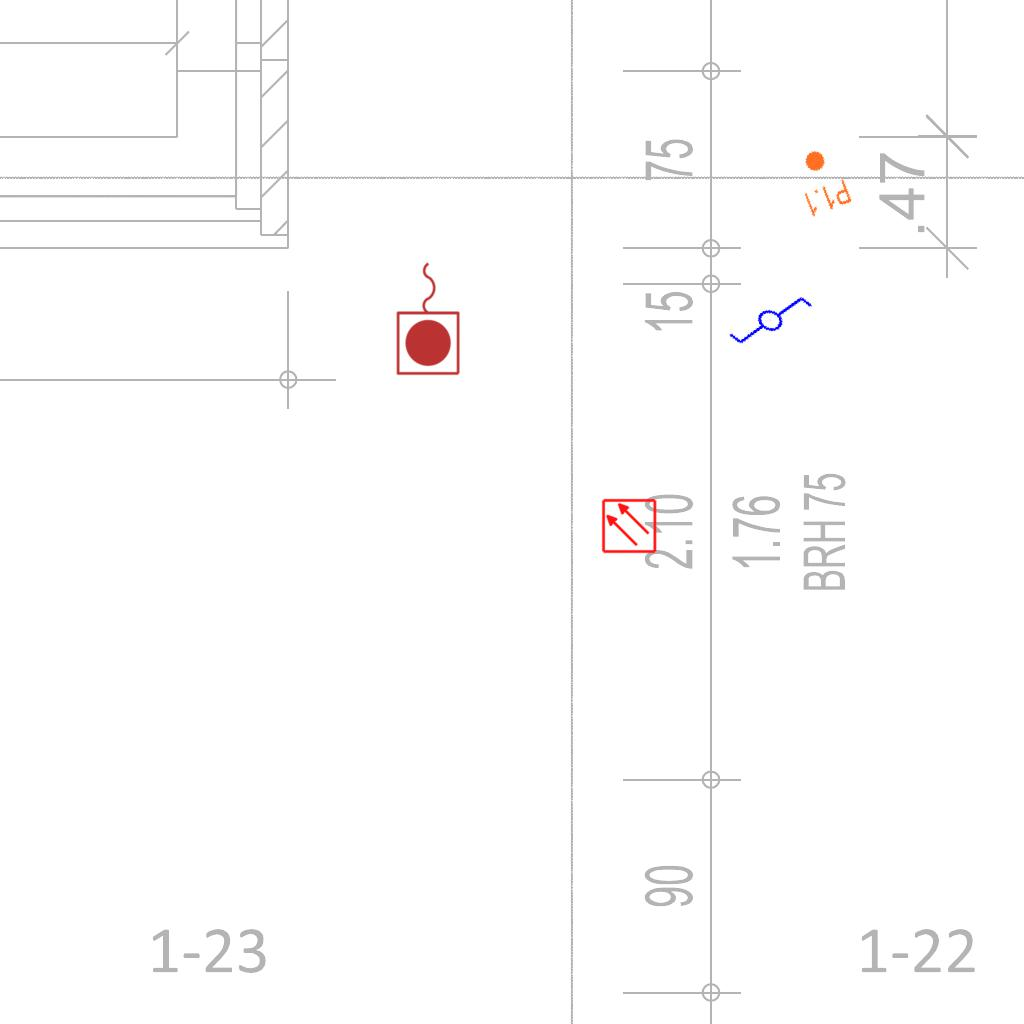Downlight_LED_Einbauleuchten_Flur: (788, 142, 854, 220)
RMO_Rauchmelder_optischer: (601, 498, 657, 554)
Wechselschalter: (717, 270, 817, 366)
Zugtaster: (393, 257, 465, 379)
